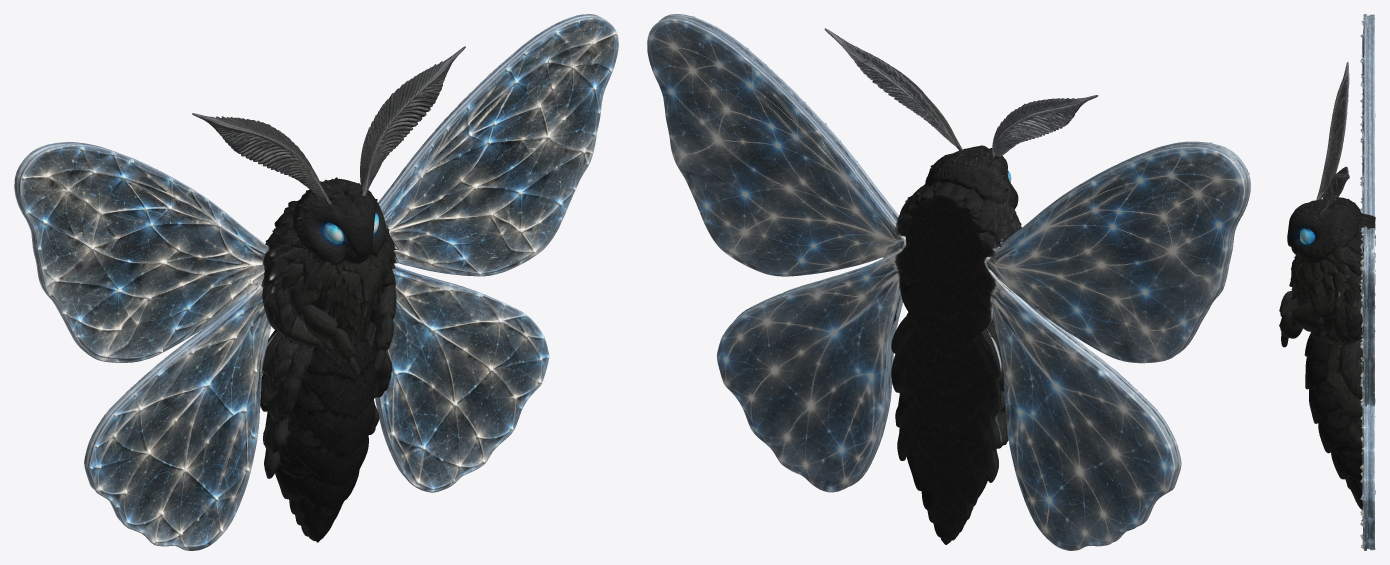
The model's file is pet-moth.glb.
The picture shows the model from 3 angles, left to right: view 1: azimuth 30°, elevation 25°; view 2: azimuth 150°, elevation 25°; view 3: azimuth 270°, elevation 25°; orthographic projection. The views are drawn at different scales.
Parts seen in each view (by area): view 1: Mesh_0; view 2: Mesh_0; view 3: Mesh_0.
Boxes of the visible parts, x1,y1,x2,y2 form: Mesh_0: [14, 14, 618, 550]; Mesh_0: [647, 14, 1250, 550]; Mesh_0: [1279, 14, 1375, 550].
Bounding box in the file's own units: 0.199 × 0.15 × 0.033.
1 material, 1 textured.
